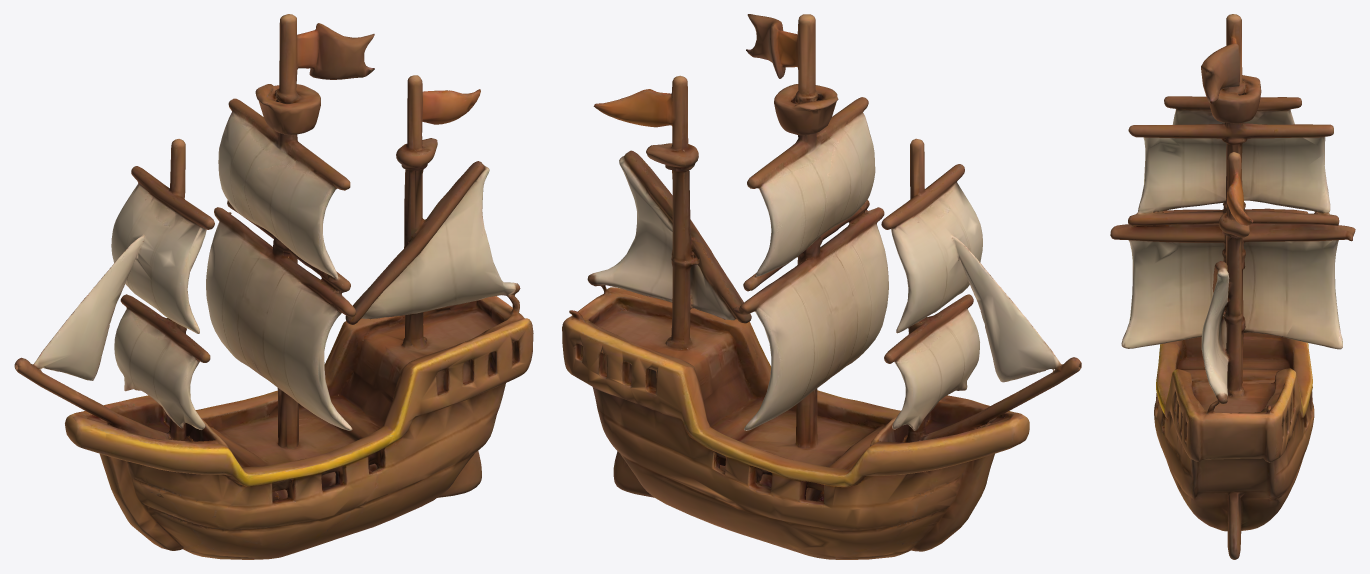
File: ship.glb
3 views of the same model, side by side, from view 1: azimuth 30°, elevation 25°; view 2: azimuth 150°, elevation 25°; view 3: azimuth 270°, elevation 25° (orthographic). The views are drawn at different scales.
Size of the model in its own units: 2 by 2 by 0.9526.
1 material, 1 textured.
